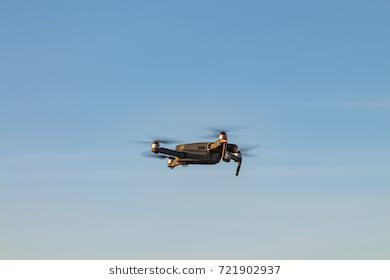drone: (127, 125, 263, 180)
